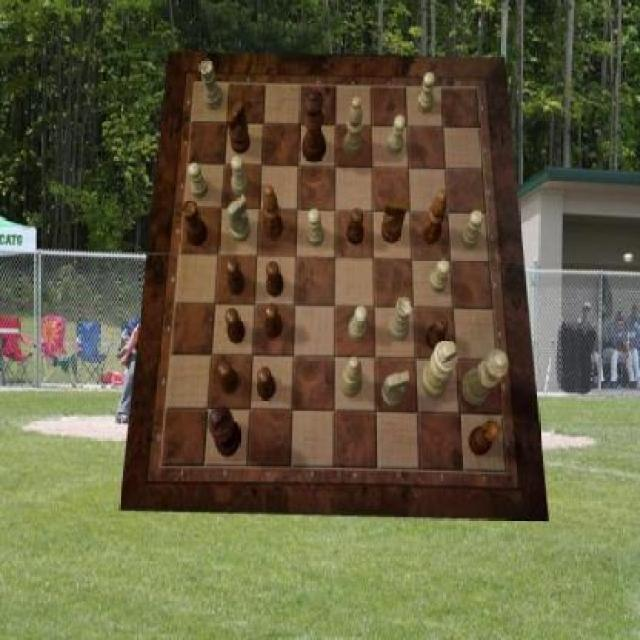bishop: (422, 189, 448, 244), (263, 185, 284, 239)
black-bishop: (208, 406, 240, 459)
black-king: (228, 101, 252, 154), (382, 198, 408, 244)
black-knight: (426, 315, 449, 350), (218, 362, 241, 396), (226, 309, 246, 344), (227, 258, 246, 294), (266, 262, 284, 298), (346, 210, 364, 246), (257, 368, 276, 402), (265, 303, 282, 339)
black-pawn: (302, 89, 326, 163)
black-queen: (183, 200, 208, 248), (468, 419, 500, 456)
black-rook: (343, 97, 363, 157), (340, 357, 362, 397)
white-bishop: (422, 340, 458, 398)
white-king: (382, 369, 411, 407), (228, 194, 250, 241)
white-knight: (460, 211, 483, 249), (429, 258, 452, 292), (417, 72, 435, 114), (188, 162, 208, 199), (230, 157, 248, 197), (349, 304, 368, 340), (388, 116, 405, 156), (308, 209, 325, 247)
white-pawn: (462, 349, 509, 407)
white-queen: (198, 60, 222, 111), (388, 297, 412, 341)
